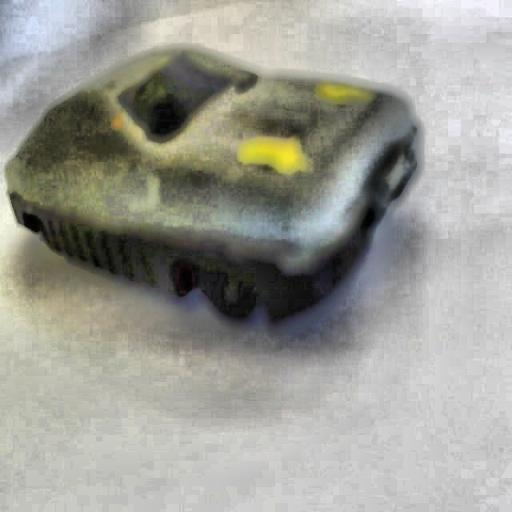normal_car: (1, 42, 424, 329)
